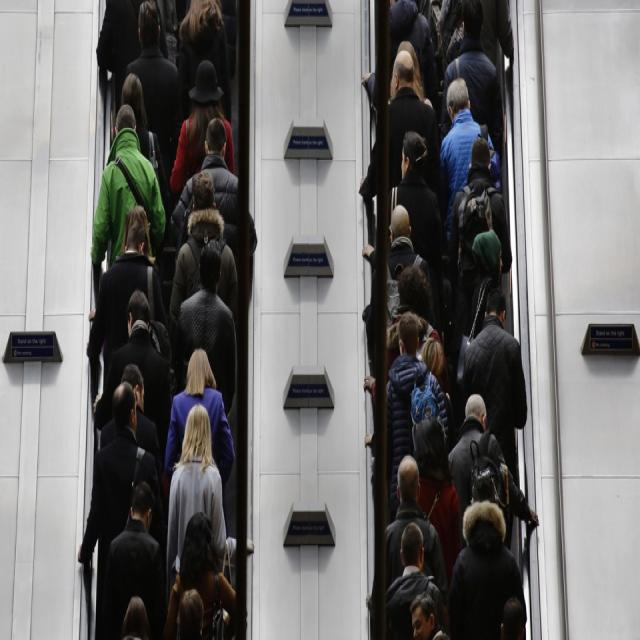body: (117, 586, 530, 639), (76, 379, 160, 639), (363, 330, 451, 526), (76, 378, 163, 567), (90, 102, 167, 308), (383, 308, 451, 530), (85, 220, 170, 392), (446, 464, 526, 638), (166, 401, 235, 594), (446, 391, 540, 532), (462, 288, 528, 488), (358, 48, 440, 204), (165, 402, 237, 577), (172, 238, 238, 422), (92, 285, 172, 434), (169, 170, 240, 332), (365, 201, 436, 360), (439, 0, 505, 166), (439, 76, 502, 244), (172, 115, 240, 269), (447, 134, 514, 290), (125, 0, 181, 184), (101, 478, 163, 640), (383, 453, 448, 607), (165, 509, 238, 640), (168, 58, 234, 198), (119, 70, 169, 252), (171, 348, 234, 490), (411, 415, 462, 589), (387, 128, 445, 278), (361, 0, 436, 114), (385, 263, 446, 382), (386, 518, 445, 640), (177, 0, 233, 125), (100, 362, 162, 460), (93, 0, 178, 67), (436, 0, 514, 72), (465, 225, 504, 339), (387, 38, 433, 112), (119, 201, 155, 262), (378, 0, 432, 26)
